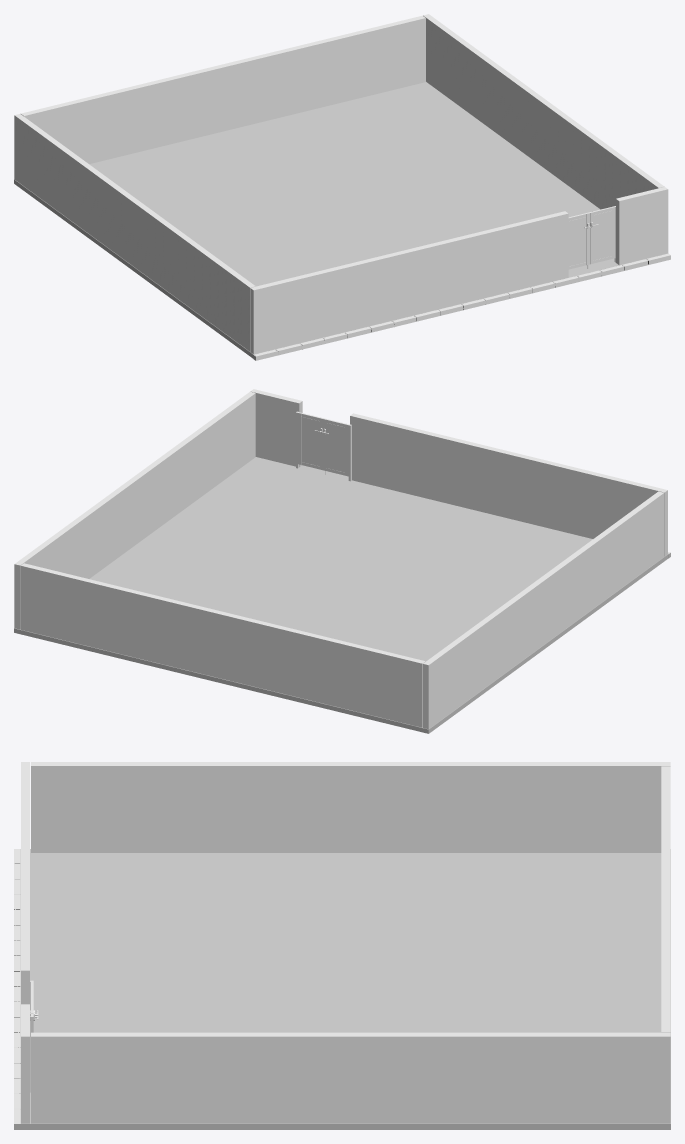
The model's file is Property_L2.fbx.
3 renders of one model, top to bottom at view 1: azimuth 30°, elevation 25°; view 2: azimuth 150°, elevation 25°; view 3: azimuth 270°, elevation 25°, orthographic. The views are drawn at different scales.
Visible parts, largest first — view 1: Ground.001, Wall.10022, Wall.10015, Wall.10014, Wall.10025, Door.045, Door.046; view 2: Ground.001, Wall.10015, Wall.10022, Wall.10014, Wall.10025, Door.045, Door.046; view 3: Ground.001, Wall.10025, Wall.10014, Wall.10022, Wall.10015.
Part boxes in pixels (x1=…): Ground.001: x1=14, y1=82, x2=670, y2=360; Wall.10022: x1=250, y1=187, x2=668, y2=354; Wall.10015: x1=21, y1=15, x2=425, y2=164; Wall.10014: x1=14, y1=114, x2=255, y2=351; Wall.10025: x1=423, y1=14, x2=664, y2=209; Door.045: x1=589, y1=206, x2=615, y2=264; Door.046: x1=568, y1=212, x2=589, y2=269; Ground.001: x1=14, y1=457, x2=670, y2=733; Wall.10015: x1=20, y1=563, x2=425, y2=727; Wall.10022: x1=250, y1=389, x2=667, y2=556; Wall.10014: x1=423, y1=491, x2=664, y2=729; Wall.10025: x1=14, y1=391, x2=255, y2=629; Door.045: x1=298, y1=412, x2=323, y2=470; Door.046: x1=323, y1=418, x2=348, y2=476; Ground.001: x1=14, y1=849, x2=670, y2=1129; Wall.10025: x1=31, y1=1032, x2=670, y2=1123; Wall.10014: x1=31, y1=762, x2=670, y2=852; Wall.10022: x1=21, y1=762, x2=33, y2=1123; Wall.10015: x1=661, y1=766, x2=670, y2=1032.
Size of the model in its own units: 1000 by 158 by 1010.
